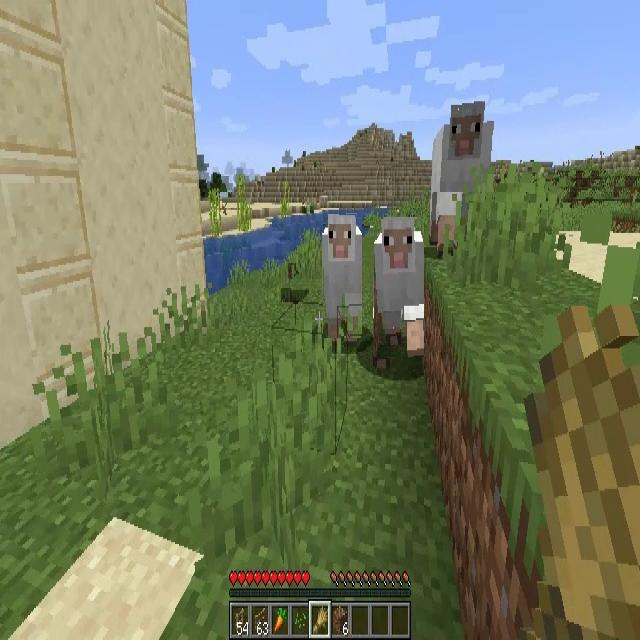sheep: (432, 102, 491, 255), (374, 219, 424, 357), (323, 214, 362, 338)
